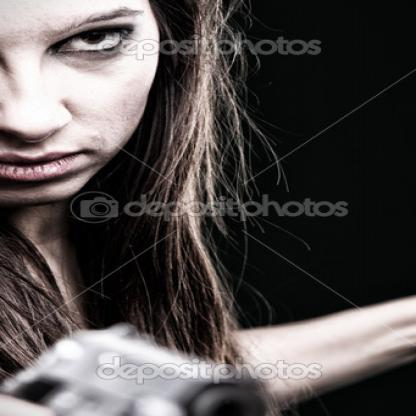gun: (0, 324, 283, 416)
